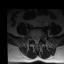CCS_normal: (36, 37, 37, 46)
LFS_stenosis: (39, 36, 41, 41)
LLS_normal: (37, 37, 39, 44)
RFS_stenosis: (32, 36, 34, 41)
RLS_normal: (34, 37, 36, 44)
